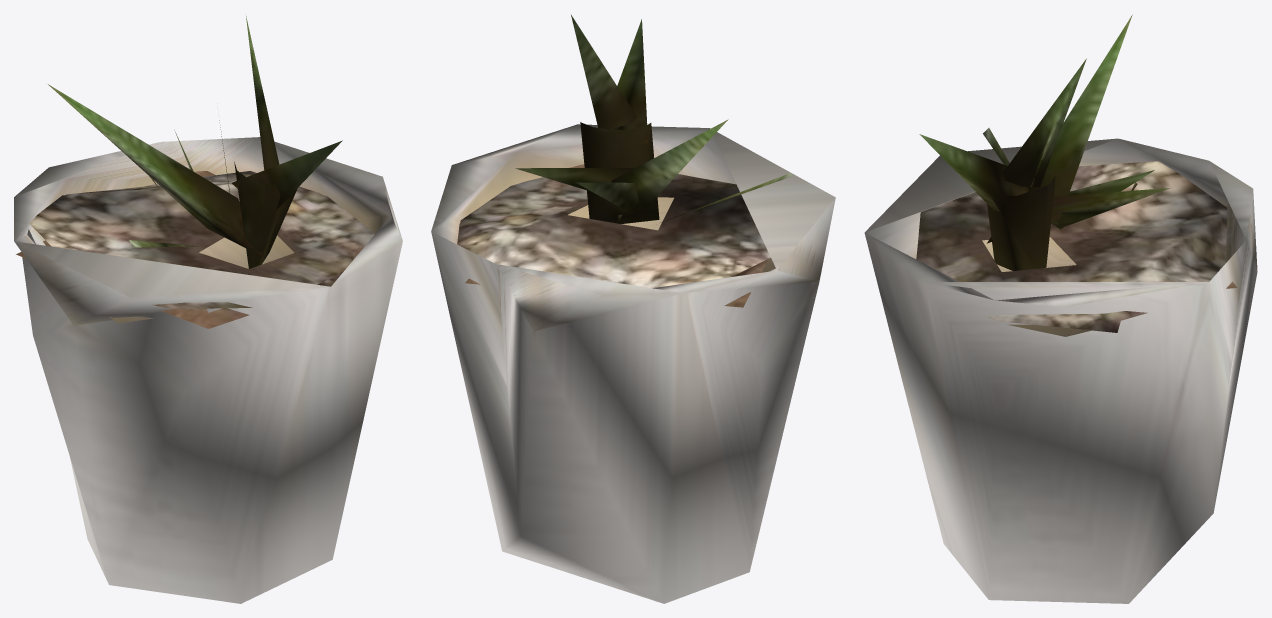
Rendered from potted_plant_04.glb.
The picture shows the model from 3 angles, left to right: view 1: azimuth 30°, elevation 25°; view 2: azimuth 150°, elevation 25°; view 3: azimuth 270°, elevation 25°; orthographic projection. The views are drawn at different scales.
Visible parts, largest first — view 1: potted_plant_04_pot, potted_plant_04_ground, potted_plant_04_plant, potted_plant_04_dirt; view 2: potted_plant_04_pot, potted_plant_04_ground, potted_plant_04_plant; view 3: potted_plant_04_pot, potted_plant_04_ground, potted_plant_04_plant.
Part boxes in pixels (<box>): potted_plant_04_pot: <box>14,137,402,603</box>; potted_plant_04_ground: <box>29,171,374,308</box>; potted_plant_04_plant: <box>48,16,342,268</box>; potted_plant_04_dirt: <box>16,171,362,328</box>; potted_plant_04_pot: <box>431,124,835,603</box>; potted_plant_04_ground: <box>457,174,770,288</box>; potted_plant_04_plant: <box>515,15,792,223</box>; potted_plant_04_pot: <box>864,138,1257,603</box>; potted_plant_04_ground: <box>916,161,1227,332</box>; potted_plant_04_plant: <box>919,15,1171,270</box>.
Bounding box in the file's own units: 0.1641 × 0.2377 × 0.1617.
1 material, 1 textured.
